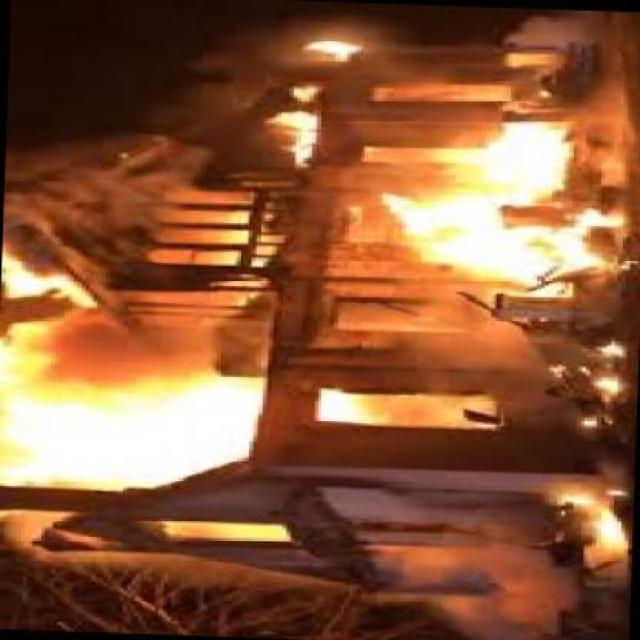Fire: (0, 265, 278, 494), (388, 101, 626, 292), (258, 85, 339, 196), (575, 482, 640, 568), (309, 381, 402, 426), (296, 28, 370, 70)
